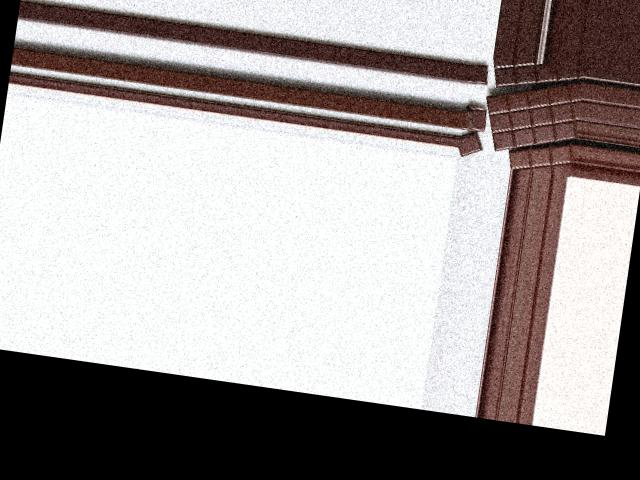chocolate: (480, 71, 584, 163)
